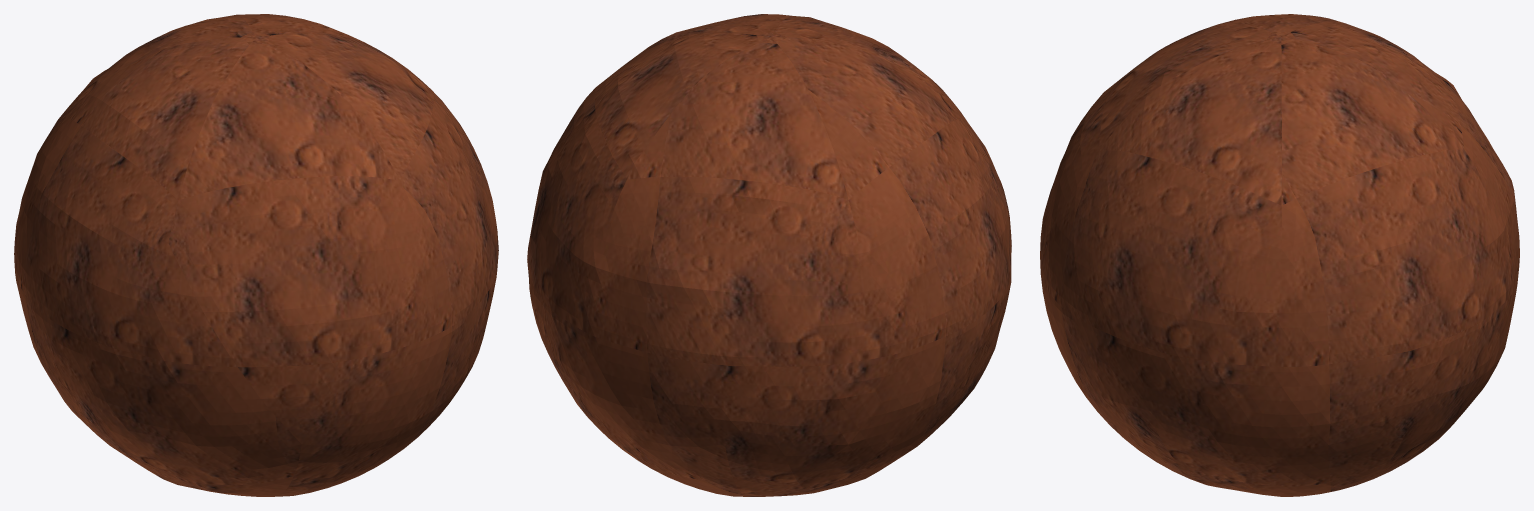
The model's file is Planet1Model.glb.
The picture shows the model from 3 angles, left to right: view 1: azimuth 30°, elevation 25°; view 2: azimuth 150°, elevation 25°; view 3: azimuth 270°, elevation 25°; orthographic projection.
Parts seen in each view (by area): view 1: Icosphere; view 2: Icosphere; view 3: Icosphere.
Boxes of the visible parts, x1=… form: Icosphere: x1=14, y1=14, x2=498, y2=496; Icosphere: x1=527, y1=14, x2=1011, y2=496; Icosphere: x1=1040, y1=14, x2=1519, y2=496.
Bounding box in the file's own units: 1.99 × 1.99 × 1.98.
Materials: 1 (1 with a texture image).
